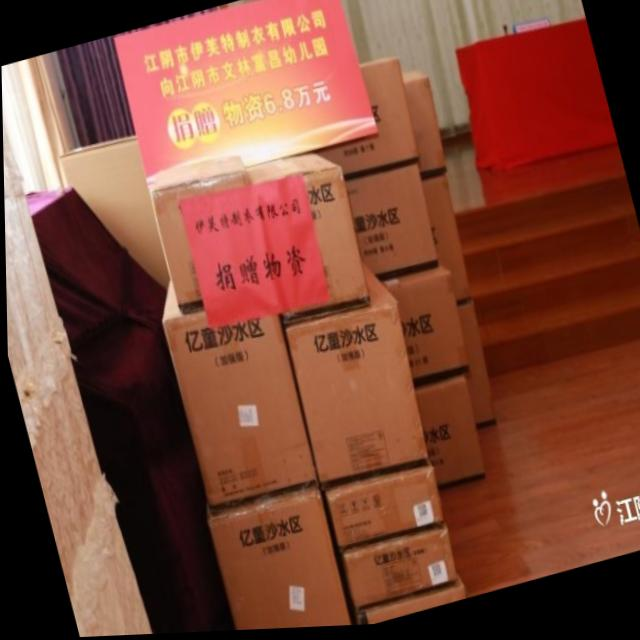box: (160, 279, 315, 510), (280, 263, 429, 494), (204, 485, 347, 632), (246, 155, 367, 310), (58, 136, 168, 293), (145, 157, 248, 306), (313, 60, 419, 182), (343, 166, 439, 286), (381, 270, 470, 391), (320, 470, 443, 555), (340, 525, 455, 614), (413, 381, 482, 492), (420, 179, 470, 310), (400, 74, 447, 184), (456, 309, 496, 434), (361, 586, 465, 627)
